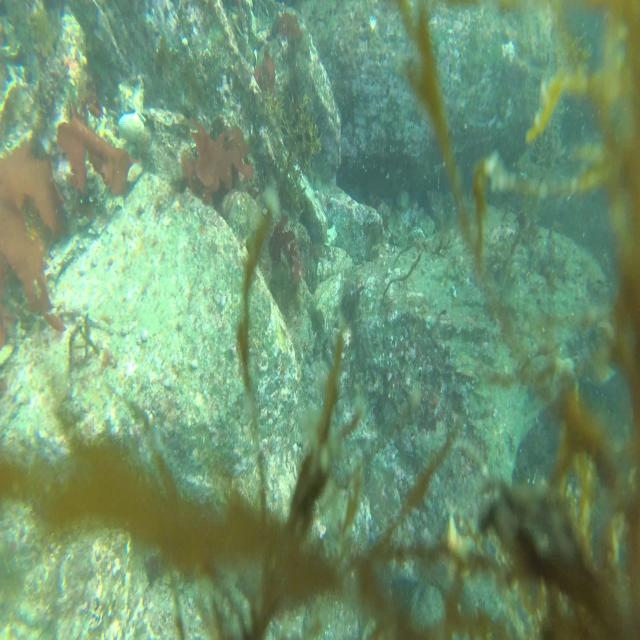scallop: (116, 112, 146, 144)
